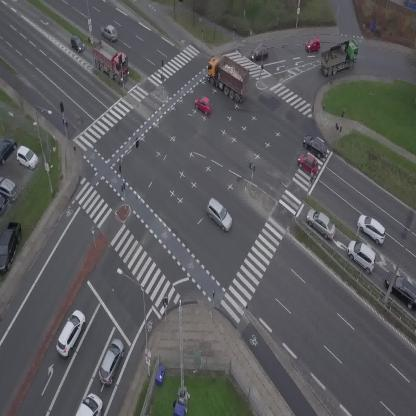car: (51, 307, 90, 358), (94, 336, 128, 387), (342, 236, 383, 275), (301, 205, 341, 242), (353, 210, 391, 247), (201, 196, 238, 233), (300, 132, 331, 161), (294, 150, 322, 177), (192, 93, 216, 116), (66, 33, 87, 55), (99, 22, 121, 43), (250, 46, 269, 61), (305, 38, 320, 52)
lorry: (198, 49, 257, 104), (83, 35, 137, 86), (316, 37, 365, 77), (75, 393, 102, 416)
